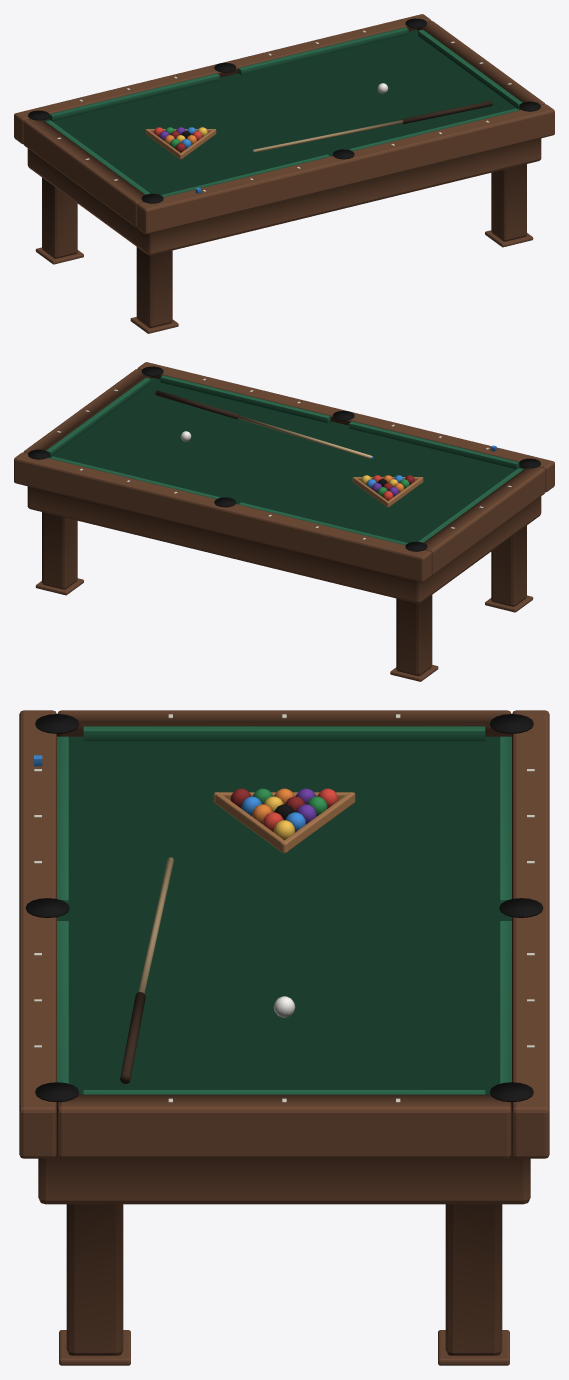
File: poolTable.glb
The picture shows the model from 3 angles, top to bottom: view 1: azimuth 30°, elevation 25°; view 2: azimuth 150°, elevation 25°; view 3: azimuth 270°, elevation 25°; orthographic projection. The views are drawn at different scales.
Parts seen in each view (by area): view 1: body, rack; view 2: body, rack; view 3: body, rack.
Boxes of the visible parts, x1=… form: body: x1=14, y1=14, x2=554, y2=333; rack: x1=145, y1=129, x2=216, y2=159; body: x1=14, y1=362, x2=554, y2=681; rack: x1=352, y1=477, x2=423, y2=507; body: x1=19, y1=710, x2=549, y2=1365; rack: x1=213, y1=792, x2=355, y2=853.
Bounding box in the file's own units: 2.5 × 0.807 × 1.4.
